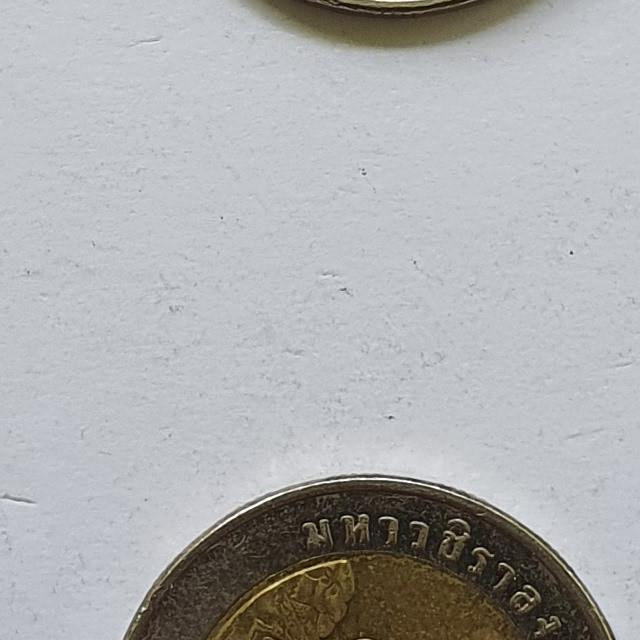10 Bath: (104, 468, 640, 640), (252, 1, 538, 36)
